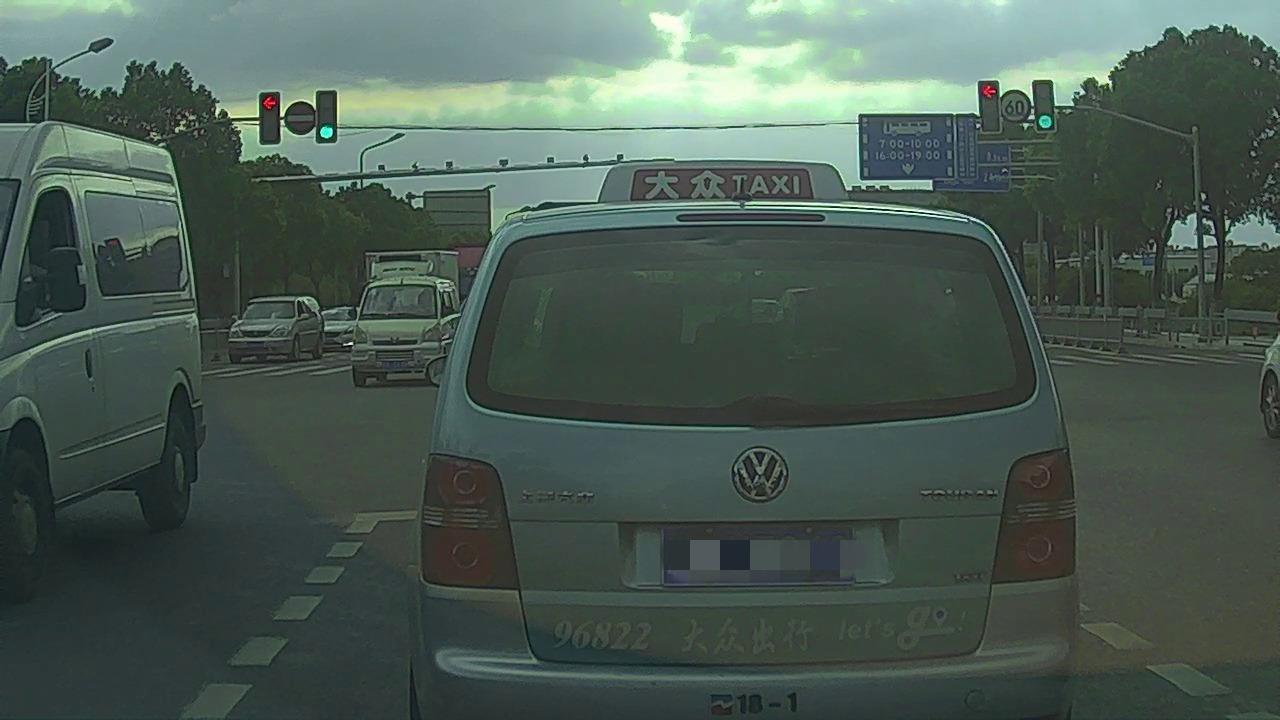traffic_light: (258, 93, 281, 145), (1033, 82, 1055, 132), (979, 82, 1000, 132), (318, 92, 336, 143)
